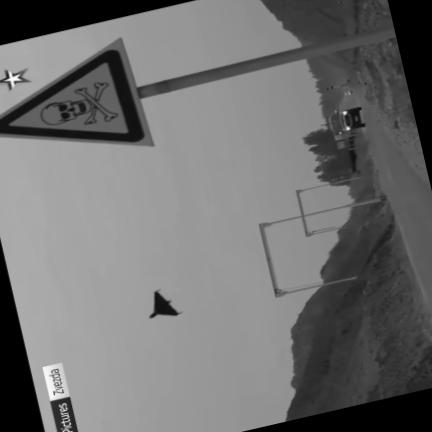Shahed: (150, 289, 180, 317)
